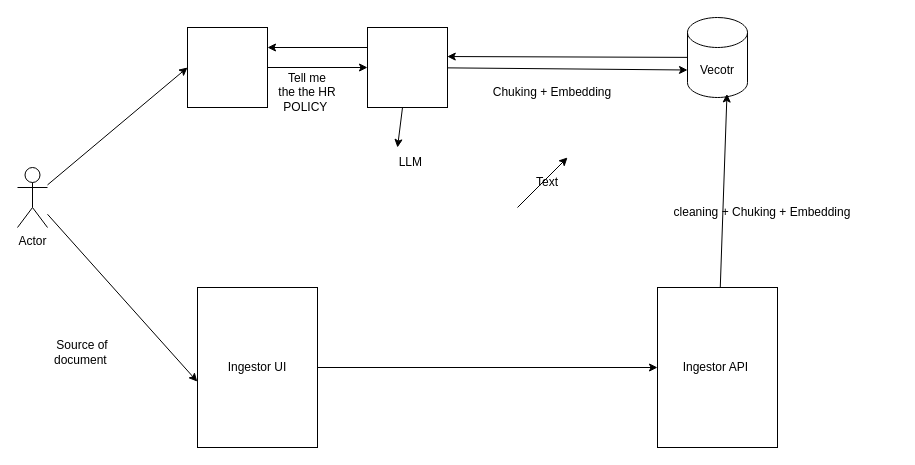
Image size: 915x465. Some labels were removed from this diagram. Each missing label, with the centre of its shape:
API: the point at 407,67
UI: the point at 227,67
